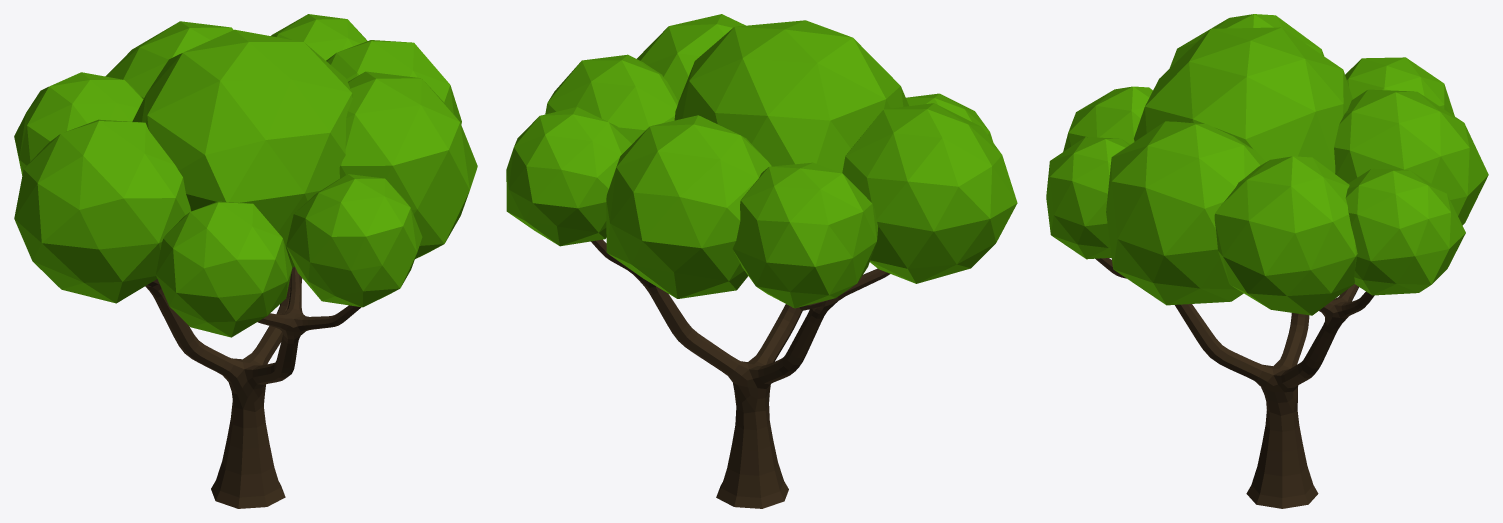
File: Tree.fbx
3 views of the same model, side by side, from view 1: azimuth 30°, elevation 25°; view 2: azimuth 150°, elevation 25°; view 3: azimuth 270°, elevation 25° (orthographic). The views are drawn at different scales.
Parts seen in each view (by area): view 1: Tree; view 2: Tree; view 3: Tree.
Part boxes in pixels (left/top/right/bottom): Tree: left=14, top=14, right=477, bottom=508; Tree: left=506, top=14, right=1017, bottom=508; Tree: left=1046, top=14, right=1488, bottom=508.
Bounding box in the file's own units: 473 × 478 × 428.
1 material, 1 textured.
